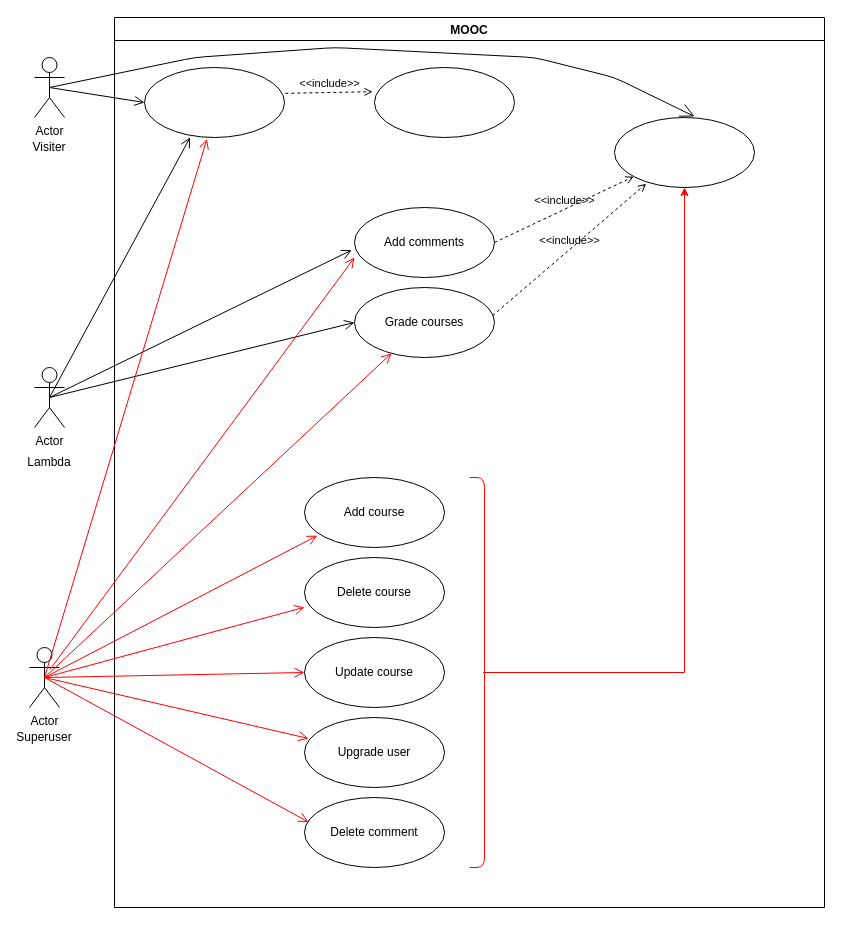
Image size: 842x925. Some labels were removed from this diagram. Each missing label, with the centre of its shape:
"Check courses" goes at [214,102].
"See comments" goes at [444,102].
"Sign in/sign up" goes at [684,152].
